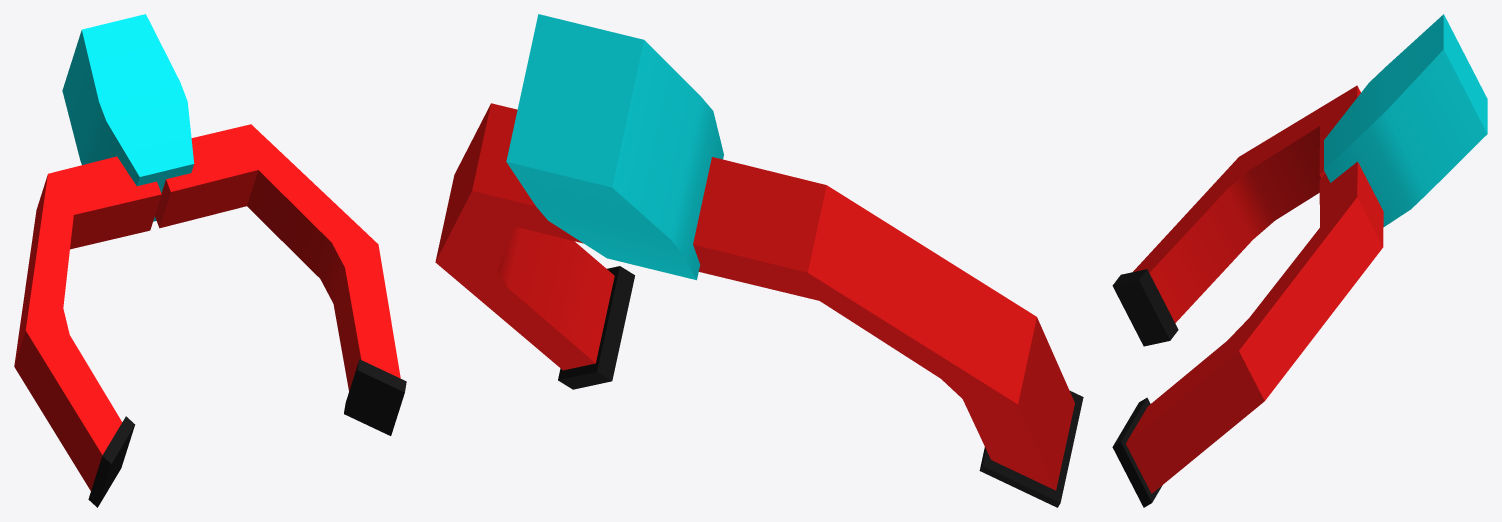
The model's file is Grabber_wide.FBX.
The picture shows the model from 3 angles, left to right: view 1: azimuth 30°, elevation 25°; view 2: azimuth 150°, elevation 25°; view 3: azimuth 270°, elevation 25°; orthographic projection. The views are drawn at different scales.
Parts seen in each view (by area): view 1: Object031; view 2: Object031; view 3: Object031.
Boxes of the visible parts, x1,y1,x2,y2 form: Object031: [14, 14, 406, 507]; Object031: [435, 14, 1083, 507]; Object031: [1112, 14, 1487, 507].
Size of the model in its own units: 65.31 by 62.32 by 53.35.
